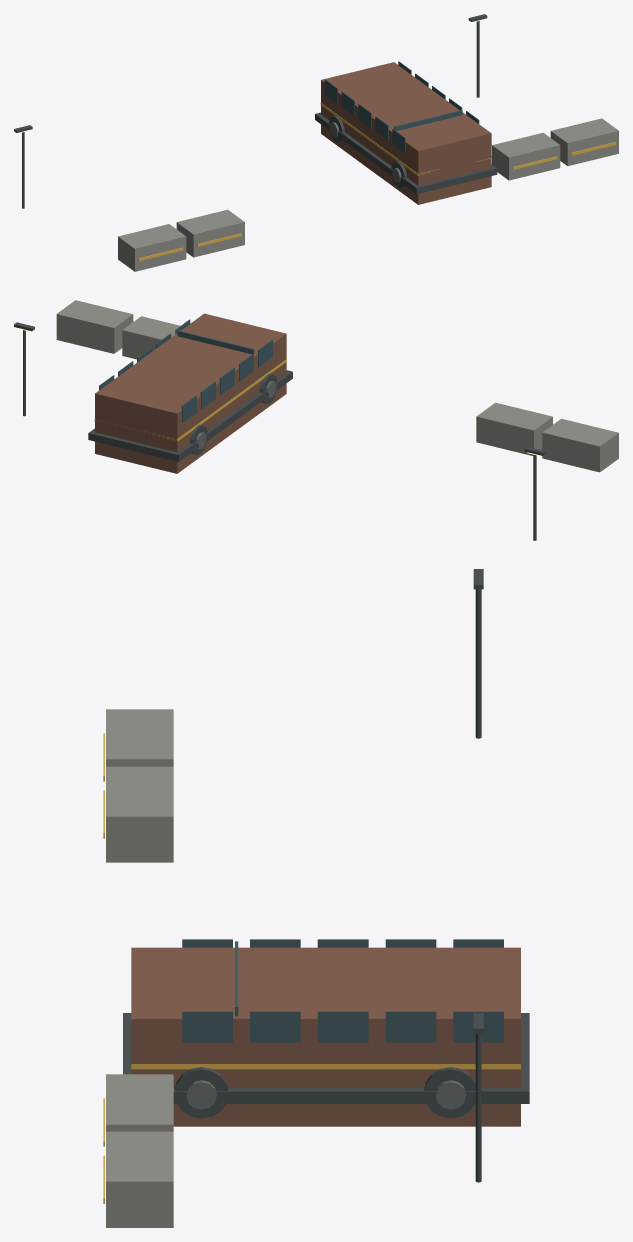
Rendered from Ville_04_Barricade_finale.fbx.
3 views of the same model, one above another, from view 1: azimuth 30°, elevation 25°; view 2: azimuth 150°, elevation 25°; view 3: azimuth 270°, elevation 25° (orthographic). The views are drawn at different scales.
Parts seen in each view (by area): view 1: Ville_04_Barricade_finale_rust, Ville_04_Barricade_finale_concrete, Ville_04_Barricade_finale_iron, Ville_04_Barricade_finale_glass, Ville_04_Barricade_finale_yellow; view 2: Ville_04_Barricade_finale_rust, Ville_04_Barricade_finale_concrete, Ville_04_Barricade_finale_iron, Ville_04_Barricade_finale_glass, Ville_04_Barricade_finale_yellow; view 3: Ville_04_Barricade_finale_rust, Ville_04_Barricade_finale_concrete, Ville_04_Barricade_finale_iron, Ville_04_Barricade_finale_glass, Ville_04_Barricade_finale_yellow, Ville_04_Barricade_finale_concrete_dark.
Part boxes in pixels (bbox=[...]): Ville_04_Barricade_finale_rust: bbox=[321, 62, 491, 204]; Ville_04_Barricade_finale_concrete: bbox=[118, 118, 618, 271]; Ville_04_Barricade_finale_iron: bbox=[14, 14, 497, 208]; Ville_04_Barricade_finale_glass: bbox=[324, 61, 479, 153]; Ville_04_Barricade_finale_yellow: bbox=[138, 103, 615, 261]; Ville_04_Barricade_finale_rust: bbox=[95, 313, 286, 473]; Ville_04_Barricade_finale_concrete: bbox=[56, 300, 618, 472]; Ville_04_Barricade_finale_iron: bbox=[14, 322, 545, 540]; Ville_04_Barricade_finale_glass: bbox=[99, 319, 272, 422]; Ville_04_Barricade_finale_yellow: bbox=[94, 359, 286, 441]; Ville_04_Barricade_finale_rust: bbox=[131, 947, 520, 1126]; Ville_04_Barricade_finale_concrete: bbox=[106, 709, 173, 1227]; Ville_04_Barricade_finale_iron: bbox=[123, 569, 529, 1182]; Ville_04_Barricade_finale_glass: bbox=[182, 939, 503, 1042]; Ville_04_Barricade_finale_yellow: bbox=[103, 733, 520, 1203]; Ville_04_Barricade_finale_concrete_dark: bbox=[186, 1080, 466, 1109].
Size of the model in its own units: 69.6 by 11.55 by 25.15.
